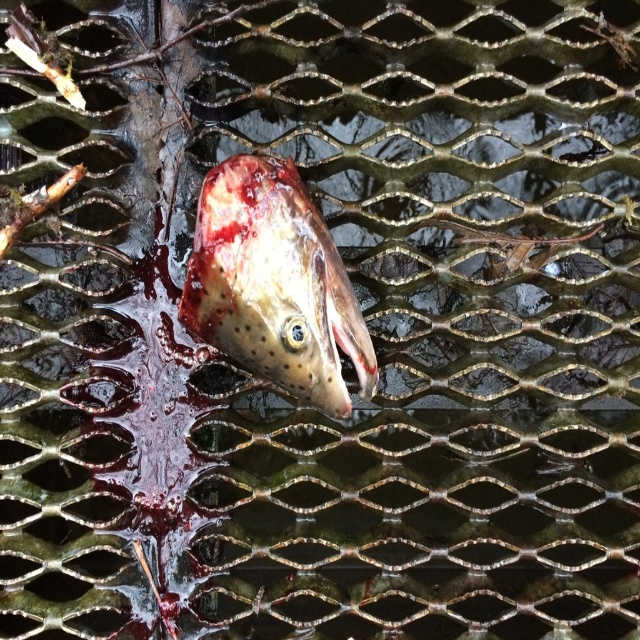Fish: (175, 145, 380, 422)
